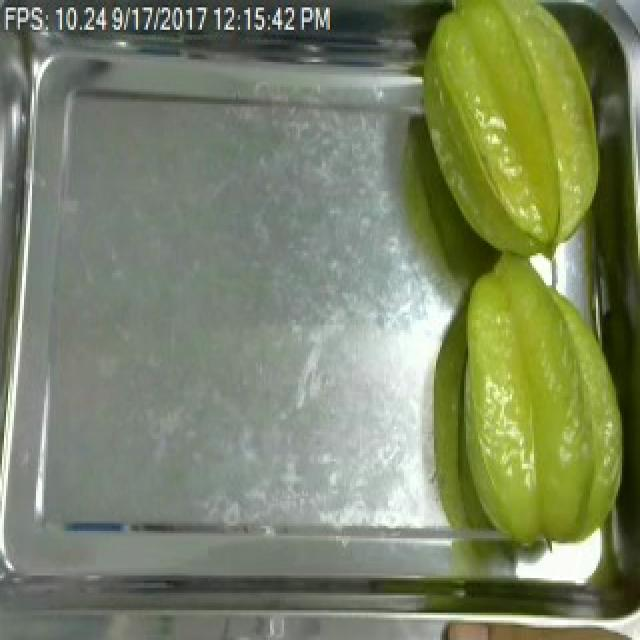fruit: (424, 243, 640, 566), (406, 0, 620, 270)
